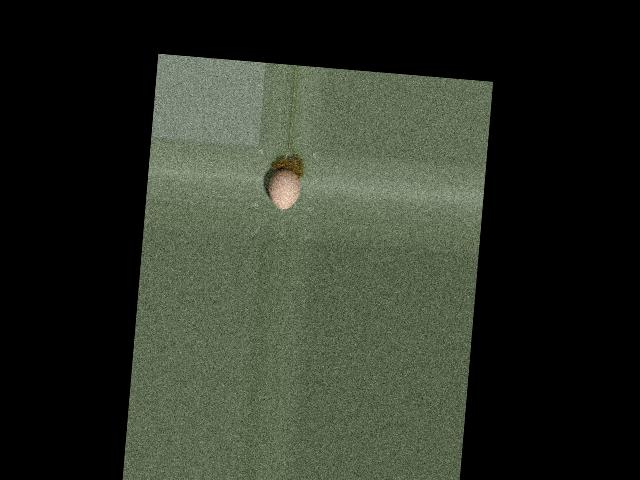egg: (266, 168, 301, 211)
